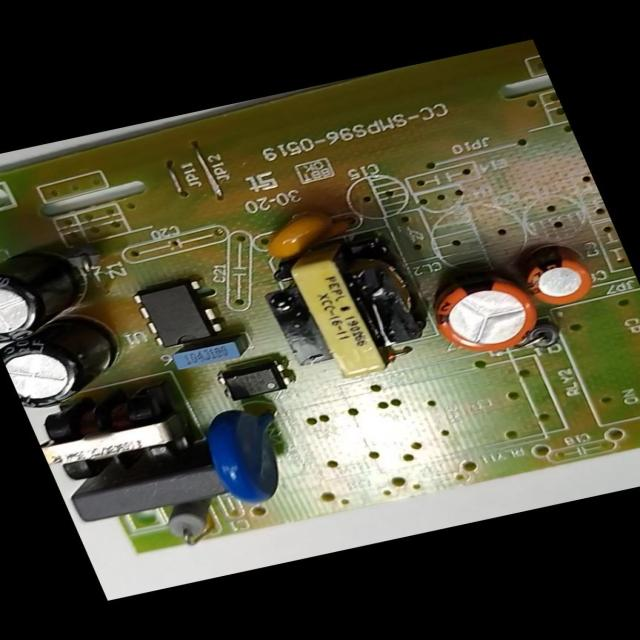Cap1: (419, 268, 543, 360)
Cap2: (512, 243, 599, 312)
Cap3: (0, 315, 142, 414)
Cap4: (0, 245, 98, 347)
MOSFET: (128, 276, 227, 352)
Mov: (190, 396, 311, 510)
Resistor: (156, 495, 230, 551)
Transformer: (245, 228, 444, 390), (26, 382, 203, 486)
